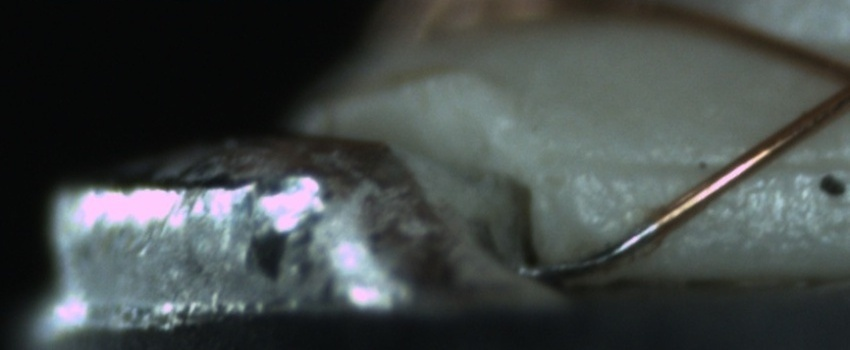DL: (574, 130, 846, 200)
TS: (525, 217, 663, 282)
